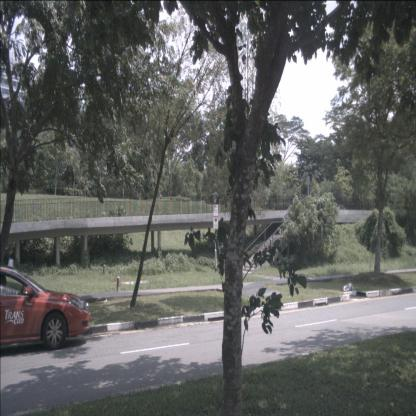vehicle-car: (0, 266, 91, 351)
